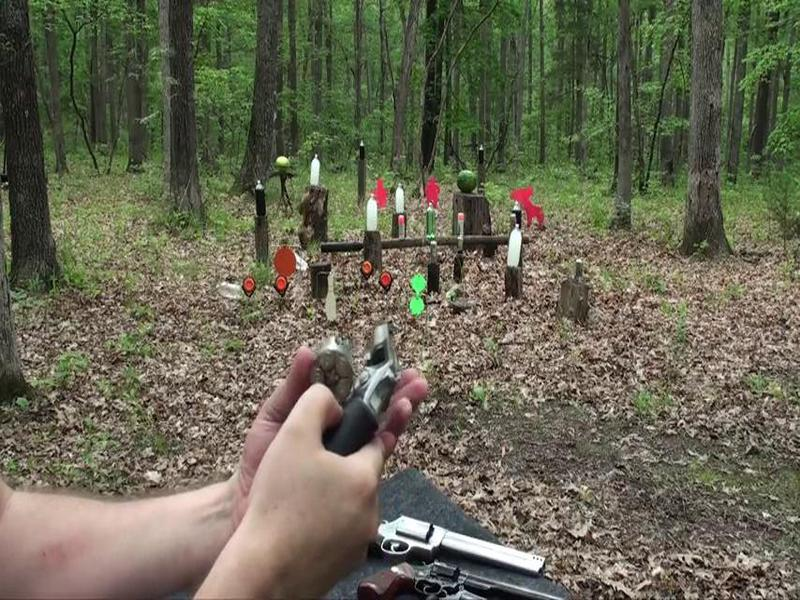Revolver: (355, 502, 549, 587)
